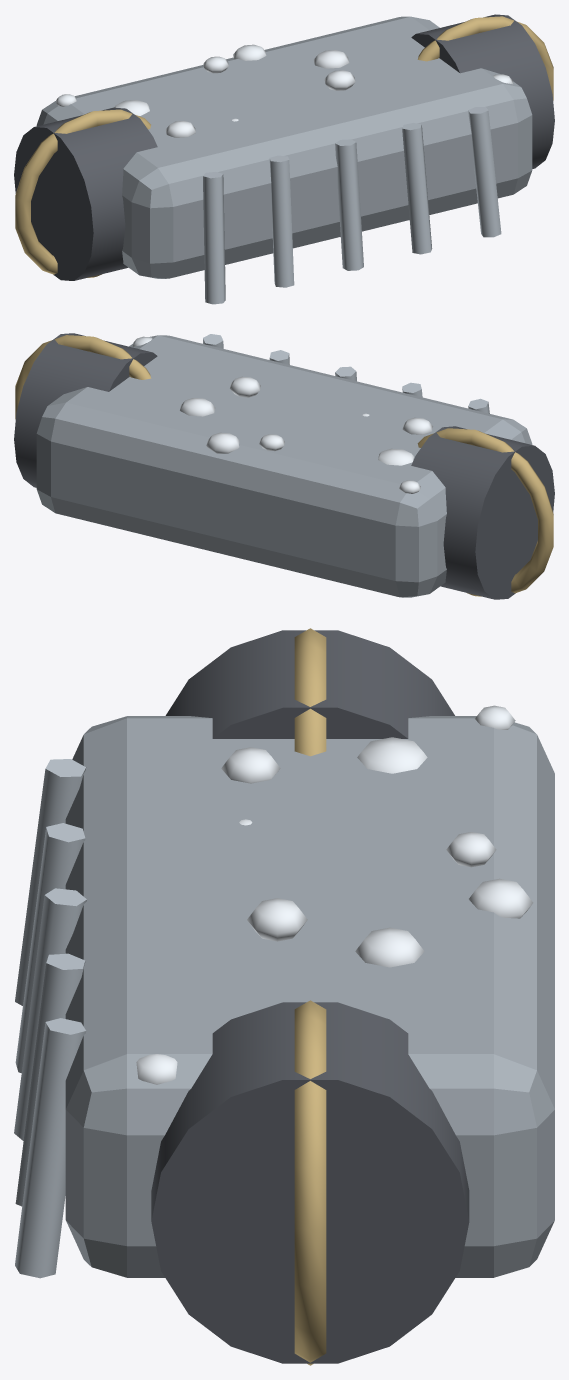
Rendered from restorer_pelvis.glb.
3 renders of one model, top to bottom at view 1: azimuth 30°, elevation 25°; view 2: azimuth 150°, elevation 25°; view 3: azimuth 270°, elevation 25°, orthographic. The views are drawn at different scales.
Parts seen in each view (by area): view 1: rs_steel*0.9, rs_dark, rs_dark.001, rs_brass, rs_hose.002, rs_hose, rs_hose.004, rs_hose.003, rs_hose.001, rs_brass.001, rs_frost.009, rs_frost.004 (+3 smaller); view 2: rs_steel*0.9, rs_dark, rs_dark.001, rs_brass, rs_brass.001, rs_frost.001, rs_frost.009, rs_frost.004, rs_frost.006, rs_frost.007, rs_frost.003; view 3: rs_steel*0.9, rs_dark.001, rs_dark, rs_brass.001, rs_hose.004, rs_hose.002, rs_hose, rs_hose.001, rs_brass, rs_hose.003, rs_frost.009, rs_frost.006 (+5 smaller).
Part boxes in pixels (bbox=[...]): rs_steel*0.9: bbox=[36, 16, 532, 278]; rs_dark: bbox=[14, 107, 157, 280]; rs_dark.001: bbox=[411, 14, 554, 168]; rs_brass: bbox=[15, 109, 150, 277]; rs_hose.002: bbox=[335, 139, 363, 270]; rs_hose: bbox=[203, 172, 225, 304]; rs_hose.004: bbox=[468, 107, 501, 237]; rs_hose.003: bbox=[402, 123, 432, 254]; rs_hose.001: bbox=[269, 155, 294, 287]; rs_brass.001: bbox=[417, 16, 553, 100]; rs_frost.009: bbox=[314, 50, 349, 68]; rs_frost.004: bbox=[324, 70, 355, 90]; rs_steel*0.9: bbox=[36, 335, 532, 597]; rs_dark: bbox=[411, 426, 554, 599]; rs_dark.001: bbox=[14, 333, 157, 487]; rs_brass: bbox=[417, 428, 553, 596]; rs_brass.001: bbox=[15, 335, 151, 418]; rs_frost.001: bbox=[206, 432, 239, 453]; rs_frost.009: bbox=[180, 398, 215, 416]; rs_frost.004: bbox=[230, 376, 260, 397]; rs_frost.006: bbox=[378, 448, 413, 465]; rs_frost.007: bbox=[402, 417, 432, 434]; rs_frost.003: bbox=[259, 434, 284, 451]; rs_steel*0.9: bbox=[65, 716, 554, 1277]; rs_dark.001: bbox=[151, 1002, 469, 1363]; rs_dark: bbox=[165, 630, 454, 738]; rs_brass.001: bbox=[294, 1000, 326, 1365]; rs_hose.004: bbox=[15, 1018, 86, 1278]; rs_hose.002: bbox=[14, 888, 86, 1140]; rs_hose: bbox=[15, 759, 86, 1005]; rs_hose.001: bbox=[15, 823, 85, 1072]; rs_brass: bbox=[294, 628, 326, 756]; rs_hose.003: bbox=[15, 953, 85, 1206]; rs_frost.009: bbox=[355, 927, 424, 967]; rs_frost.006: bbox=[357, 737, 427, 773].
Bounding box in the file's own units: 2.03 × 0.6 × 0.8848.
